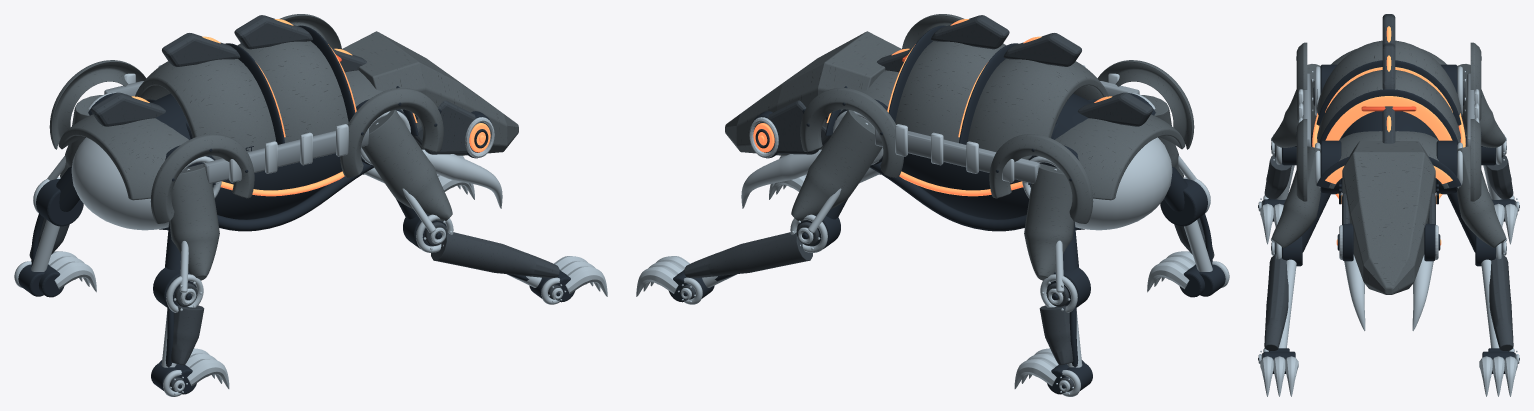
Rendered from crawler.glb.
The picture shows the model from 3 angles, left to right: view 1: azimuth 30°, elevation 25°; view 2: azimuth 150°, elevation 25°; view 3: azimuth 270°, elevation 25°; orthographic projection. The views are drawn at different scales.
Parts seen in each view (by area): view 1: RIFT_Crawler_V2.001_CONCEPT2_ceramic.002, RIFT_Crawler_V2.001_CONCEPT2_dark.002, PredatorSkull.001_CONCEPT2_ceramic.002, RIFT_Crawler_V2.001_CONCEPT2_armor.002, Front_near.002_CONCEPT2_ceramic.002, RIFT_Crawler_V2.001_CONCEPT2_steel.002, Rear_near.002_CONCEPT2_ceramic.002, Shin.001_CONCEPT2_armor.002, REFIT crawler flank armor inset.001, RIFT_Crawler_V2.001_CONCEPT2_rubber.002, Shin_CONCEPT2_armor.002, PredatorSkull.001_CONCEPT2_steel.002 (+14 smaller); view 2: RIFT_Crawler_V2.001_CONCEPT2_ceramic.002, RIFT_Crawler_V2.001_CONCEPT2_dark.002, PredatorSkull.001_CONCEPT2_ceramic.002, RIFT_Crawler_V2.001_CONCEPT2_armor.002, Front_far.002_CONCEPT2_ceramic.002, RIFT_Crawler_V2.001_CONCEPT2_steel.002, Rear_far.002_CONCEPT2_ceramic.002, Shin.003_CONCEPT2_armor.002, REFIT crawler flank armor inset, RIFT_Crawler_V2.001_CONCEPT2_rubber.002, Shin.002_CONCEPT2_armor.002, PredatorSkull.001_CONCEPT2_steel.002 (+14 smaller); view 3: PredatorSkull.001_CONCEPT2_ceramic.002, RIFT_Crawler_V2.001_CONCEPT2_ceramic.002, RIFT_Crawler_V2.001_CONCEPT2_dark.002, RIFT_Crawler_V2.001_CONCEPT2_red.002, Front_far.002_CONCEPT2_ceramic.002, Front_near.002_CONCEPT2_ceramic.002, Shin.003_CONCEPT2_armor.002, Shin.001_CONCEPT2_armor.002, PredatorSkull.001_CONCEPT2_steel.002, RIFT_Crawler_V2.001_CONCEPT2_armor.002, Front_near.002_CONCEPT2_dark.002, Rear_far.002_CONCEPT2_ceramic.002 (+26 smaller).
Part boxes in pixels (x1=…): RIFT_Crawler_V2.001_CONCEPT2_ceramic.002: x1=49, y1=14, x2=443, y2=223; RIFT_Crawler_V2.001_CONCEPT2_dark.002: x1=146, y1=25, x2=437, y2=230; PredatorSkull.001_CONCEPT2_ceramic.002: x1=342, y1=31, x2=518, y2=155; RIFT_Crawler_V2.001_CONCEPT2_armor.002: x1=91, y1=15, x2=366, y2=126; Front_near.002_CONCEPT2_ceramic.002: x1=361, y1=110, x2=452, y2=221; RIFT_Crawler_V2.001_CONCEPT2_steel.002: x1=71, y1=137, x2=168, y2=230; Rear_near.002_CONCEPT2_ceramic.002: x1=169, y1=163, x2=219, y2=280; Shin.001_CONCEPT2_armor.002: x1=424, y1=222, x2=559, y2=278; REFIT crawler flank armor inset.001: x1=203, y1=128, x2=368, y2=183; RIFT_Crawler_V2.001_CONCEPT2_rubber.002: x1=217, y1=162, x2=374, y2=231; Shin_CONCEPT2_armor.002: x1=170, y1=283, x2=204, y2=365; PredatorSkull.001_CONCEPT2_steel.002: x1=422, y1=149, x2=502, y2=208; RIFT_Crawler_V2.001_CONCEPT2_ceramic.002: x1=800, y1=14, x2=1194, y2=223; RIFT_Crawler_V2.001_CONCEPT2_dark.002: x1=806, y1=25, x2=1097, y2=230; PredatorSkull.001_CONCEPT2_ceramic.002: x1=725, y1=31, x2=901, y2=155; RIFT_Crawler_V2.001_CONCEPT2_armor.002: x1=877, y1=15, x2=1152, y2=126; Front_far.002_CONCEPT2_ceramic.002: x1=791, y1=110, x2=882, y2=221; RIFT_Crawler_V2.001_CONCEPT2_steel.002: x1=1075, y1=137, x2=1172, y2=230; Rear_far.002_CONCEPT2_ceramic.002: x1=1024, y1=163, x2=1074, y2=280; Shin.003_CONCEPT2_armor.002: x1=684, y1=222, x2=819, y2=278; REFIT crawler flank armor inset: x1=875, y1=128, x2=1040, y2=183; RIFT_Crawler_V2.001_CONCEPT2_rubber.002: x1=869, y1=162, x2=1026, y2=231; Shin.002_CONCEPT2_armor.002: x1=1039, y1=283, x2=1073, y2=365; PredatorSkull.001_CONCEPT2_steel.002: x1=741, y1=149, x2=821, y2=208; PredatorSkull.001_CONCEPT2_ceramic.002: x1=1342, y1=141, x2=1435, y2=294; RIFT_Crawler_V2.001_CONCEPT2_ceramic.002: x1=1296, y1=40, x2=1481, y2=201; RIFT_Crawler_V2.001_CONCEPT2_dark.002: x1=1296, y1=56, x2=1481, y2=192; RIFT_Crawler_V2.001_CONCEPT2_red.002: x1=1312, y1=26, x2=1465, y2=203; Front_far.002_CONCEPT2_ceramic.002: x1=1457, y1=146, x2=1506, y2=247; Front_near.002_CONCEPT2_ceramic.002: x1=1271, y1=146, x2=1320, y2=247; Shin.003_CONCEPT2_armor.002: x1=1489, y1=242, x2=1513, y2=350; Shin.001_CONCEPT2_armor.002: x1=1264, y1=242, x2=1288, y2=350; PredatorSkull.001_CONCEPT2_steel.002: x1=1344, y1=255, x2=1433, y2=330; RIFT_Crawler_V2.001_CONCEPT2_armor.002: x1=1382, y1=14, x2=1395, y2=143; Front_near.002_CONCEPT2_dark.002: x1=1301, y1=140, x2=1341, y2=252; Rear_far.002_CONCEPT2_ceramic.002: x1=1457, y1=64, x2=1505, y2=147.
Size of the model in its own units: 1.34 by 0.828 by 0.813.
Materials: 9 (2 with a texture image).
